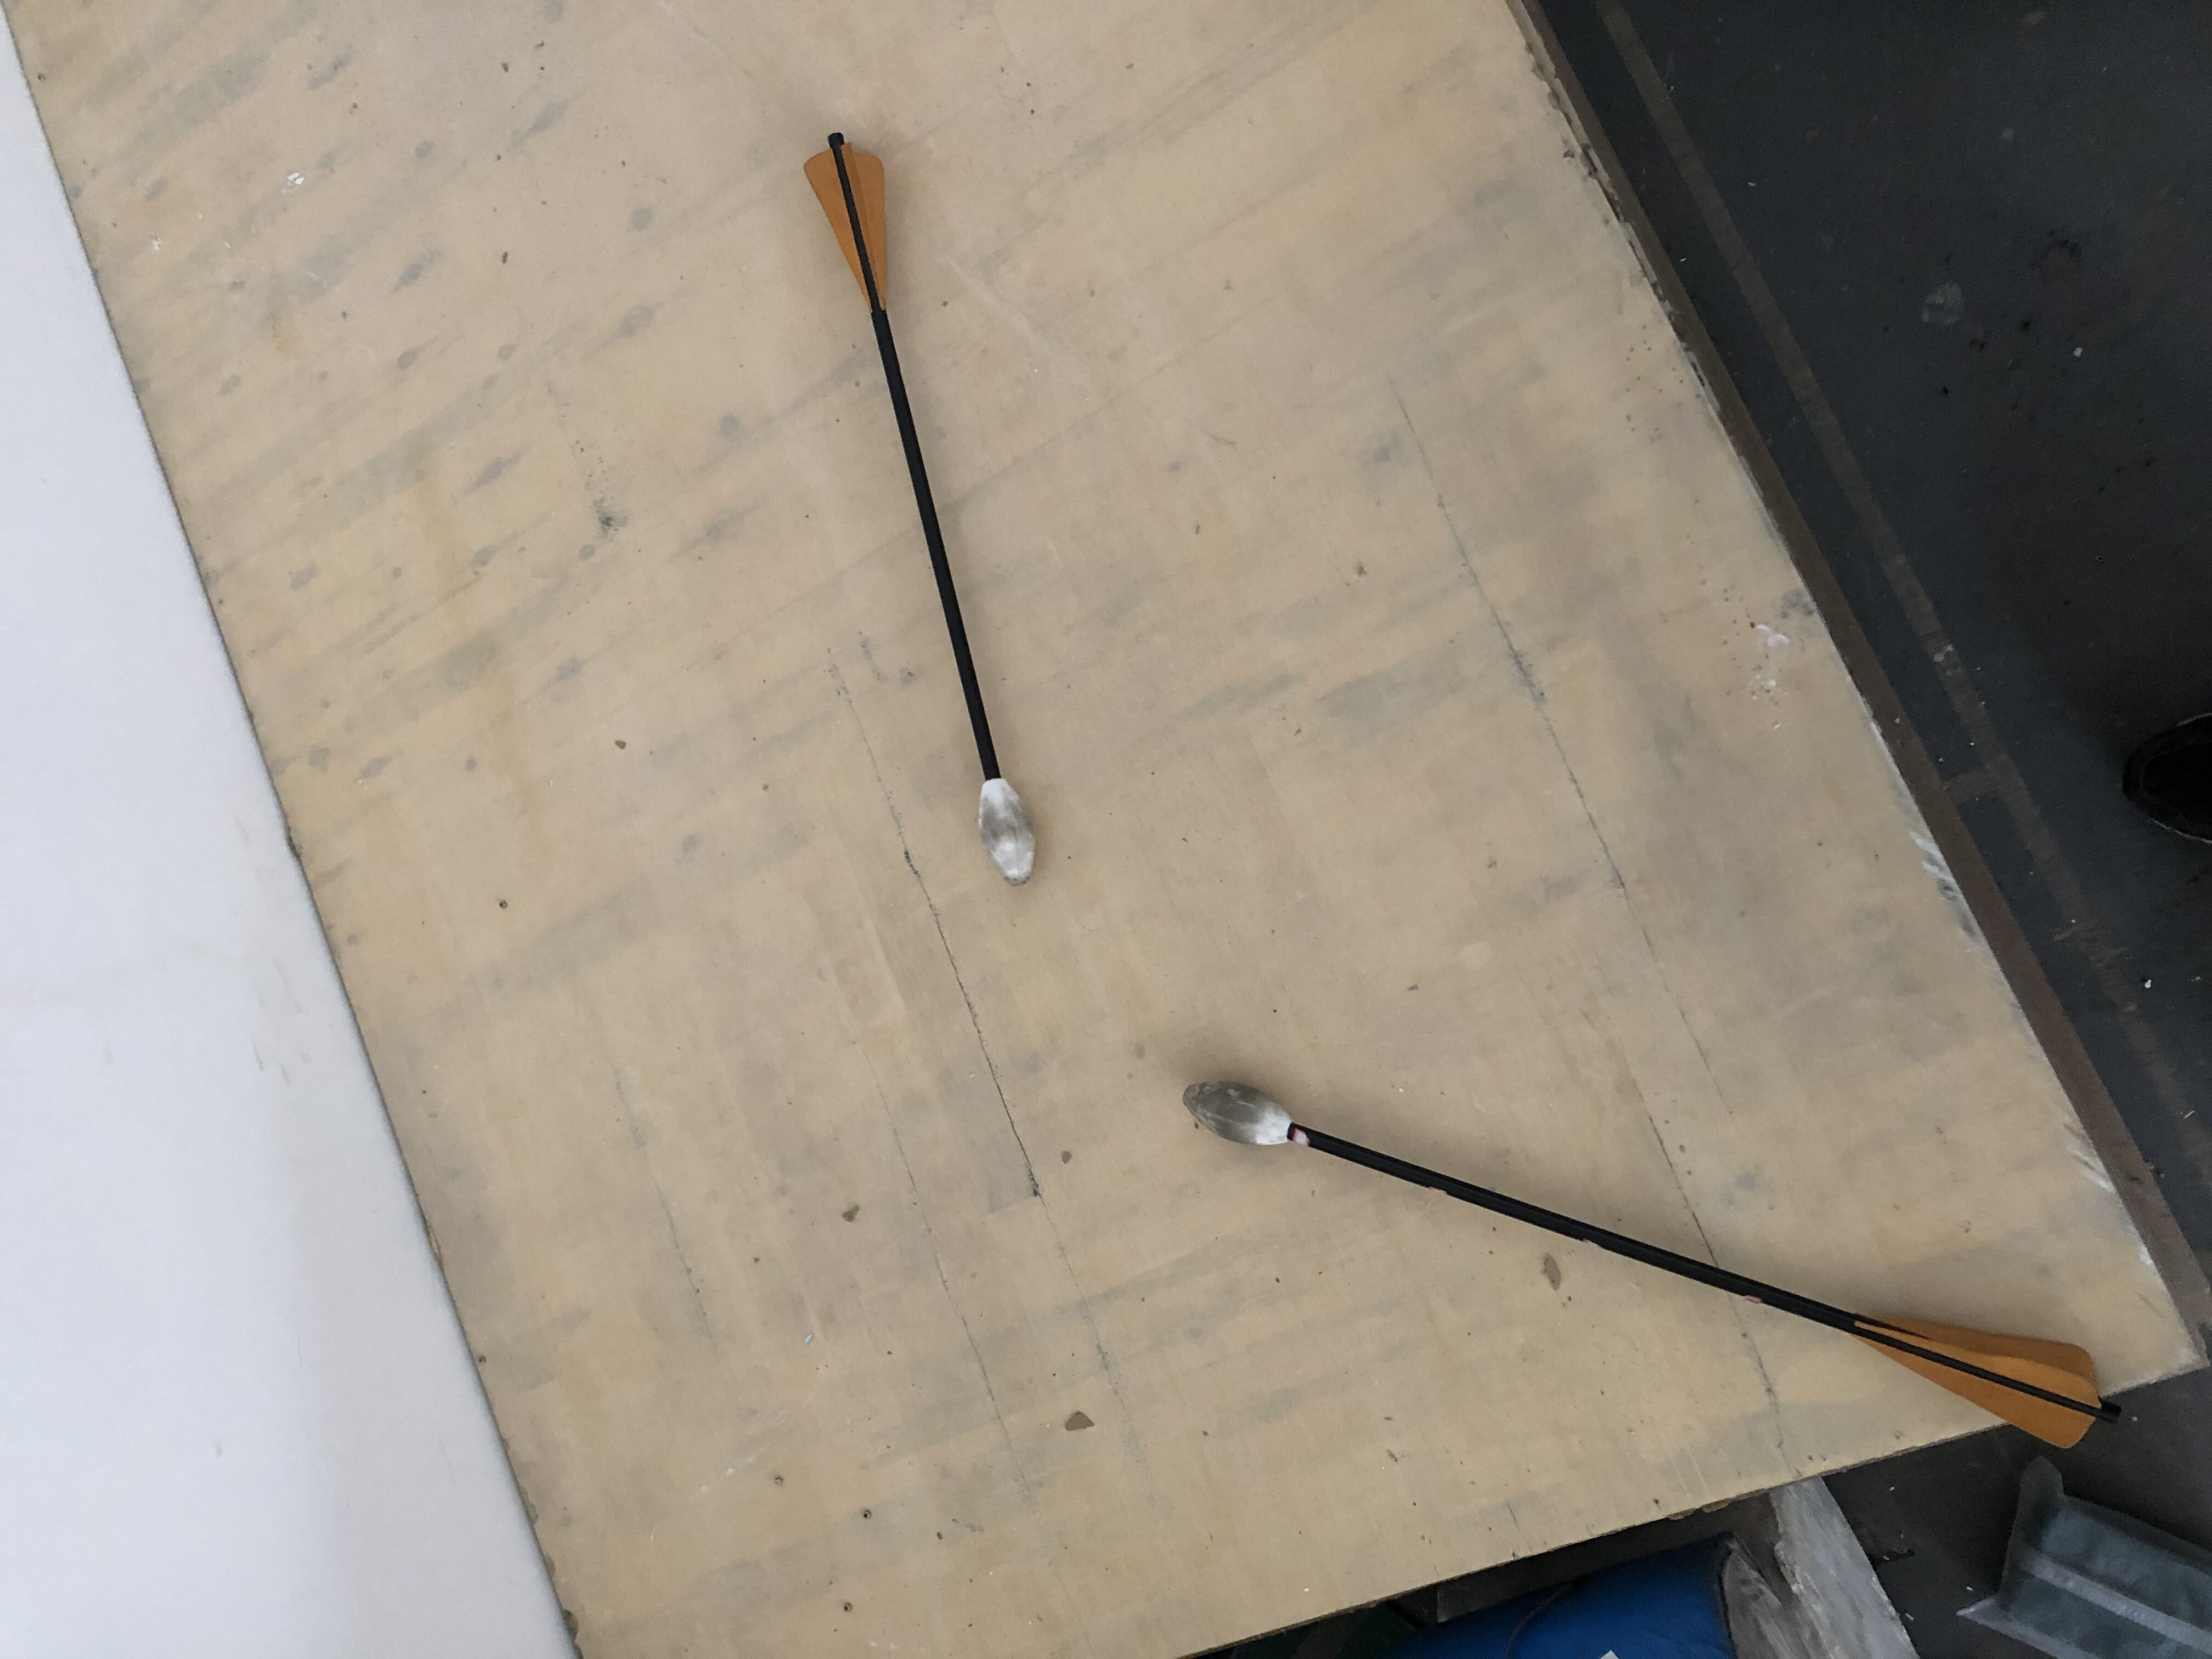arrow: (1181, 1079, 2104, 1446), (803, 132, 1042, 884)
arrowFront: (1181, 1079, 1296, 1150), (974, 770, 1043, 882)
